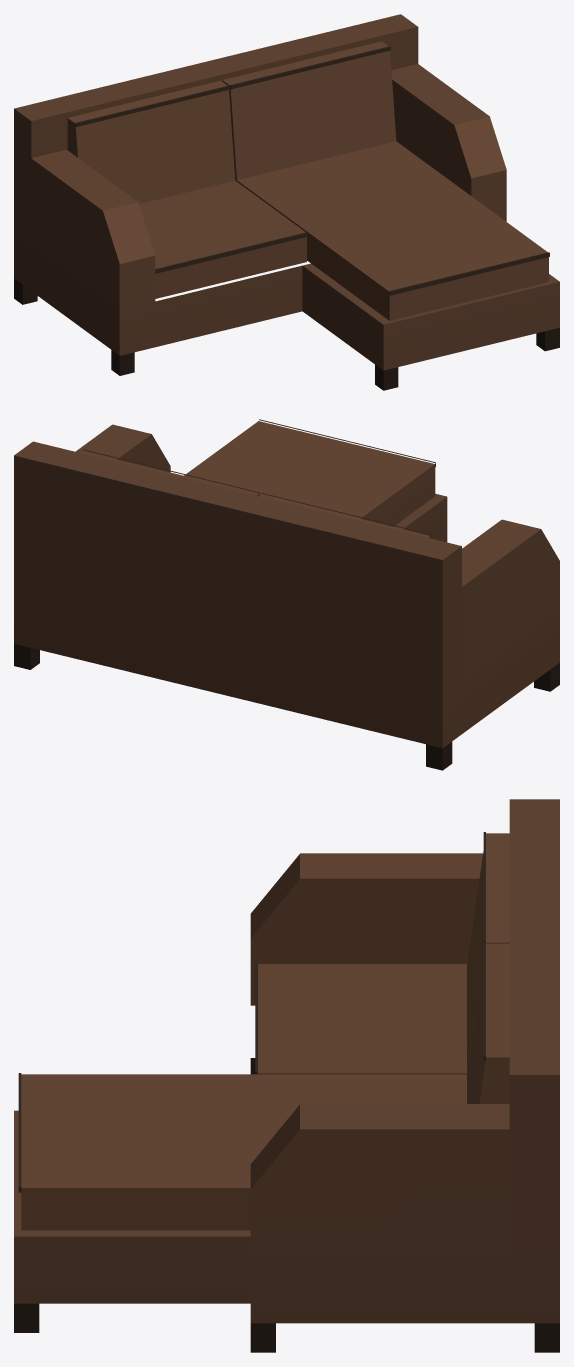
Rendered from sofa.corner.leather.glb.
3 renders of one model, top to bottom at view 1: azimuth 30°, elevation 25°; view 2: azimuth 150°, elevation 25°; view 3: azimuth 270°, elevation 25°, orthographic. The views are drawn at different scales.
Visible parts, largest first — view 1: sofa_corner_leather; view 2: sofa_corner_leather; view 3: sofa_corner_leather.
Part boxes in pixels (<box>): sofa_corner_leather: <box>14,14,559,390</box>; sofa_corner_leather: <box>14,419,559,770</box>; sofa_corner_leather: <box>14,799,559,1352</box>.
Size of what is drawn, in the model's own units: 1.81 by 0.85 by 1.51.
